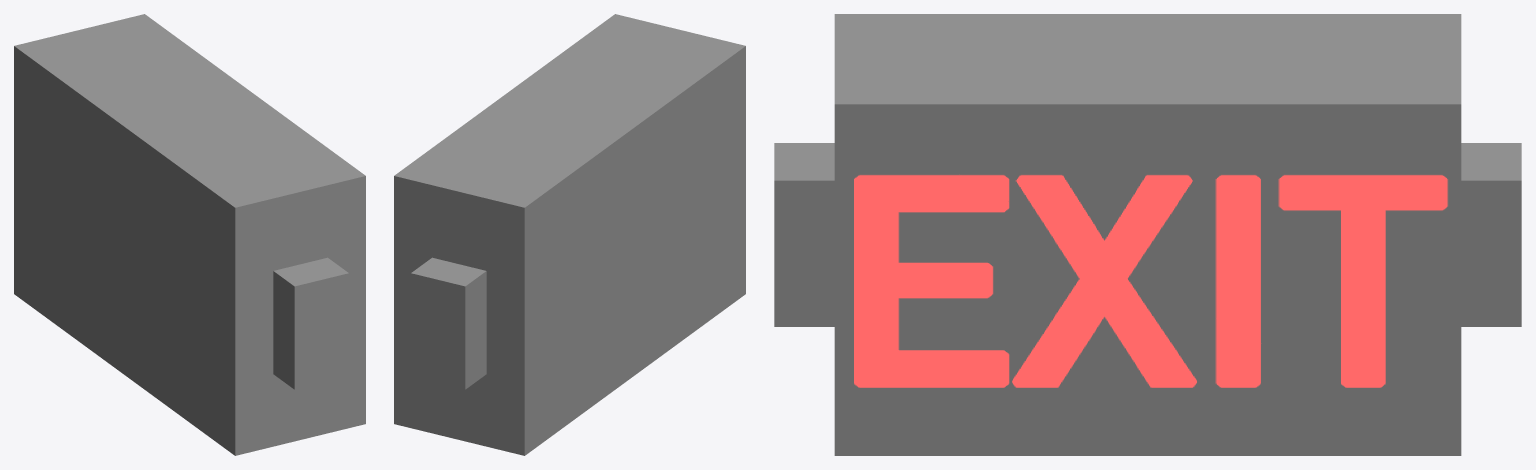
File: Exit Sign.fbx
The picture shows the model from 3 angles, left to right: view 1: azimuth 30°, elevation 25°; view 2: azimuth 150°, elevation 25°; view 3: azimuth 270°, elevation 25°; orthographic projection. The views are drawn at different scales.
Parts seen in each view (by area): view 1: Exit Sign; view 2: Exit Sign; view 3: Exit Sign.
Part boxes in pixels (x1=…): Exit Sign: x1=14, y1=14, x2=365, y2=455; Exit Sign: x1=394, y1=14, x2=745, y2=455; Exit Sign: x1=774, y1=14, x2=1521, y2=455.
Size of the model in its own units: 237 by 123 by 67.82.
